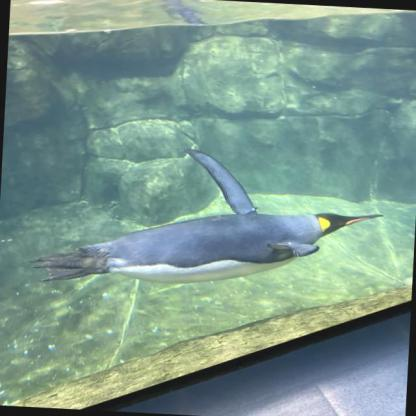penguin: (19, 142, 392, 299)
